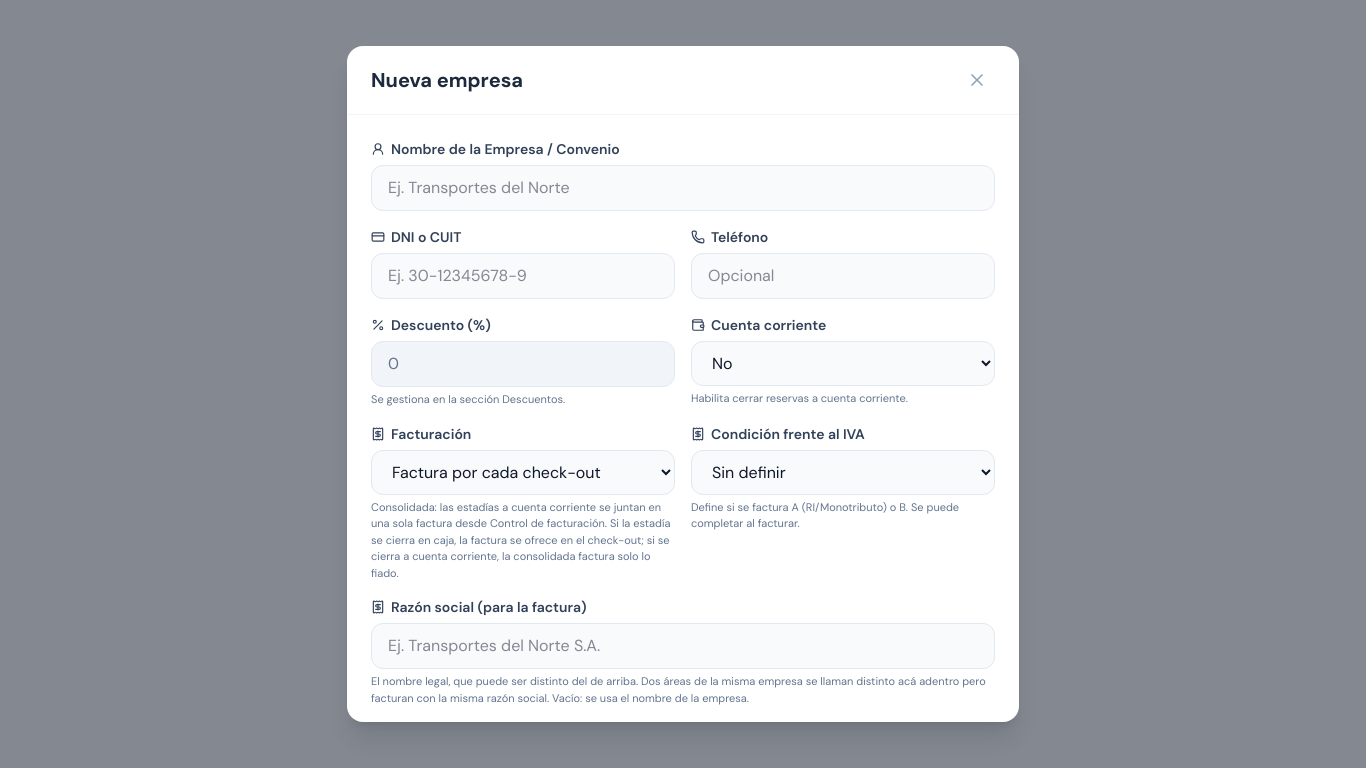
Test case: AssociatedClientModal: el botón dice qué falta › con el nombre cargado y sin documento, el foco va al documento
Type "Empresa Ficticia SA" into the field with id "associated-display-name" at (683, 188), box [371, 165, 995, 211]
(page scrolled)
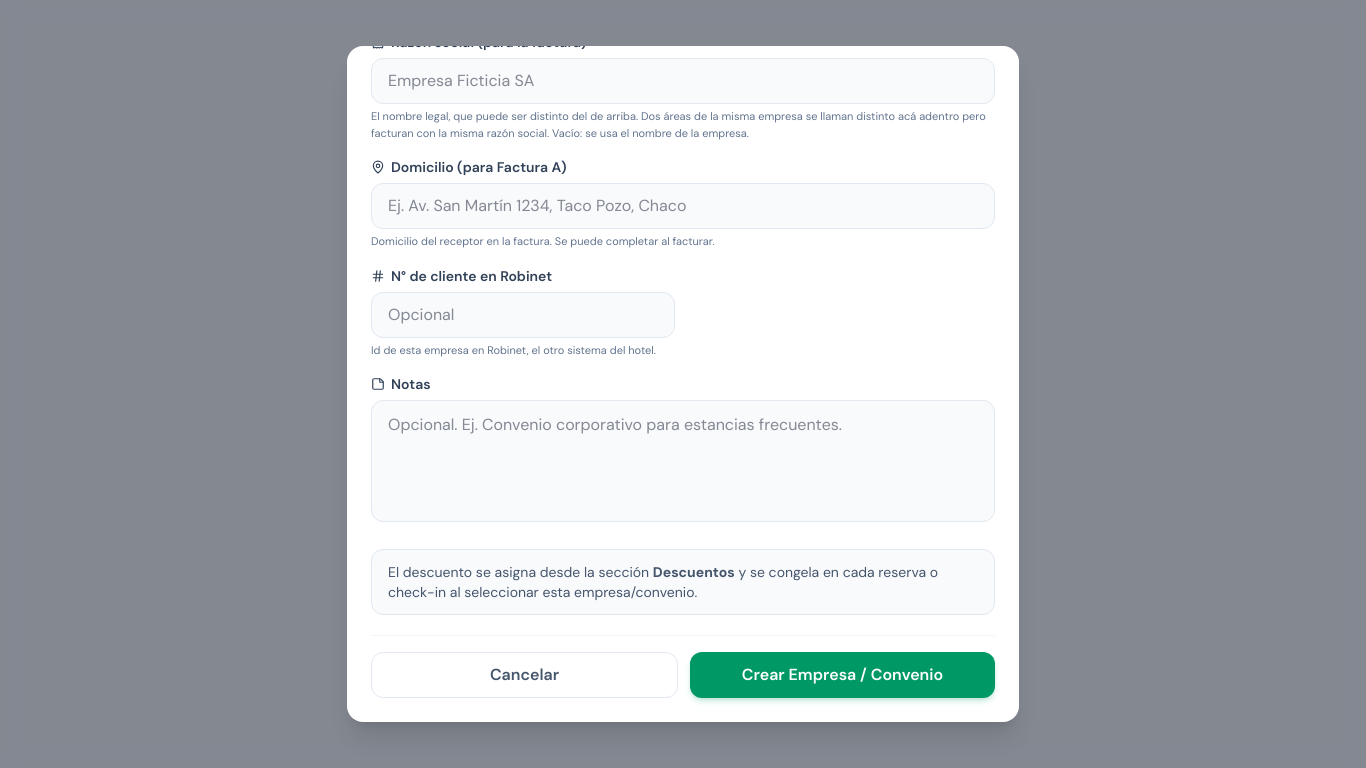
Click the submit button at (842, 675), box [690, 652, 995, 698]
(page scrolled)
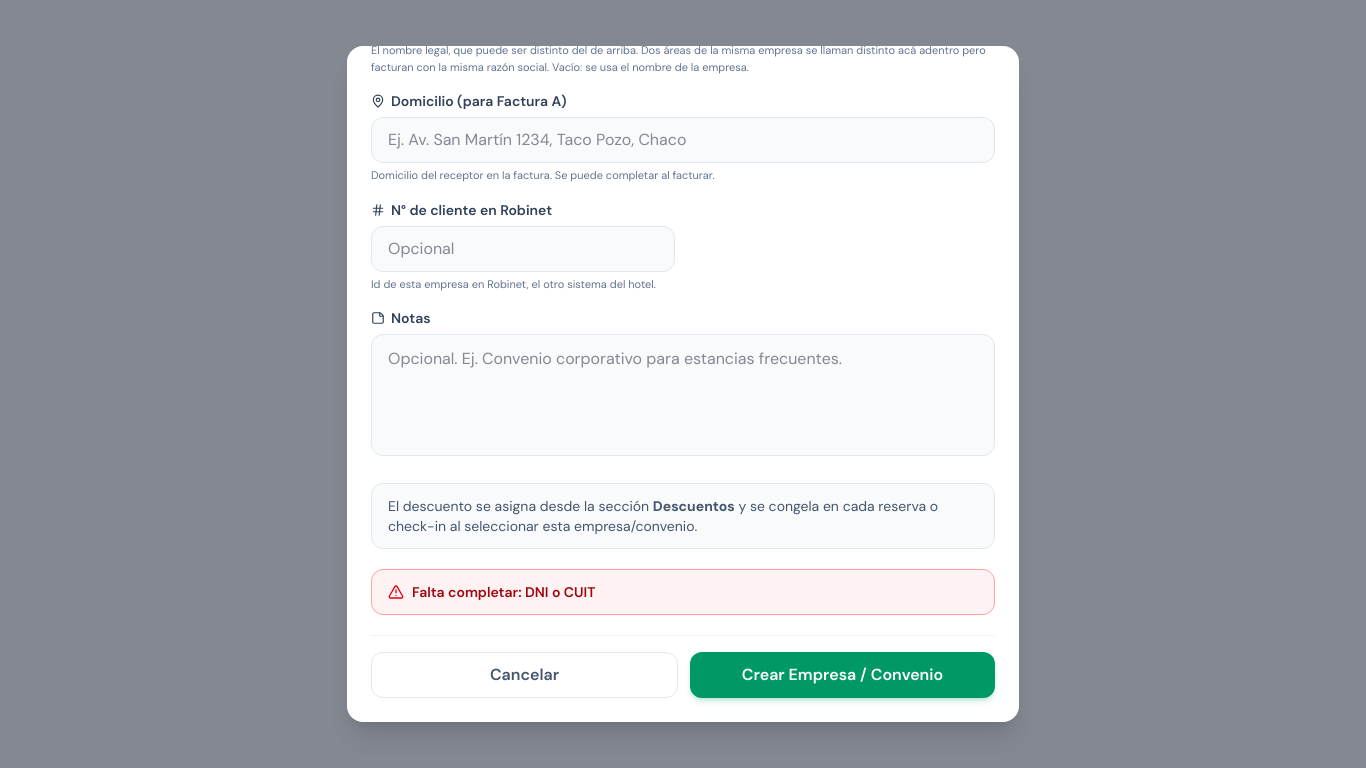
Now the text "Falta completar: DNI o CUIT" is shown, box [412, 582, 595, 602]
